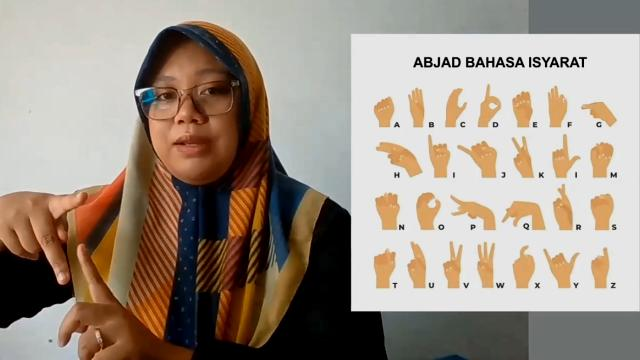P: (2, 189, 88, 289)
